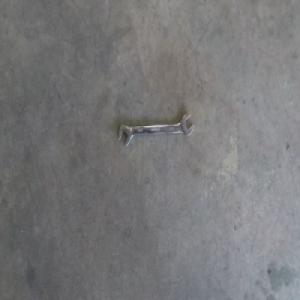Wrench: (116, 118, 196, 153)
